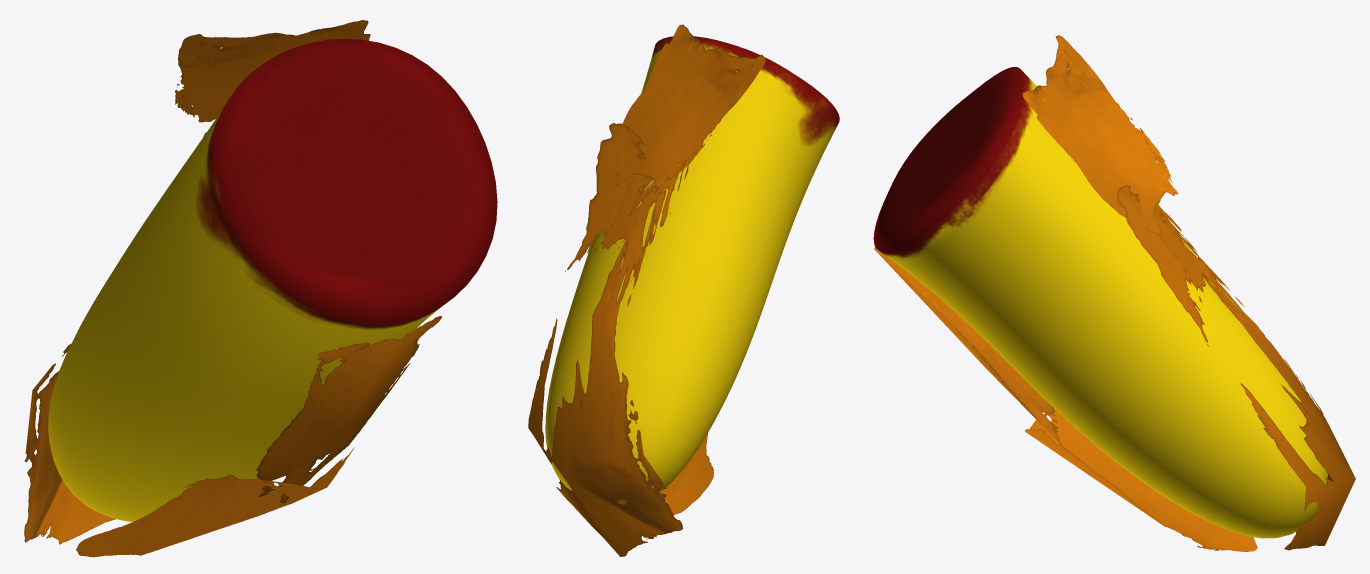
Rendered from Starfish Broken Leg Right.fbx.
The picture shows the model from 3 angles, left to right: view 1: azimuth 30°, elevation 25°; view 2: azimuth 150°, elevation 25°; view 3: azimuth 270°, elevation 25°; orthographic projection. The views are drawn at different scales.
Parts seen in each view (by area): view 1: Starfish_Leg_R.002; view 2: Starfish_Leg_R.002; view 3: Starfish_Leg_R.002.
Part boxes in pixels (box(x1,y1,x2,y2)): Starfish_Leg_R.002: box(24, 20, 497, 557); Starfish_Leg_R.002: box(528, 24, 839, 556); Starfish_Leg_R.002: box(873, 35, 1355, 551).
Size of the model in its own units: 69.91 by 168 by 146.
Materials: 2 (2 with a texture image).
